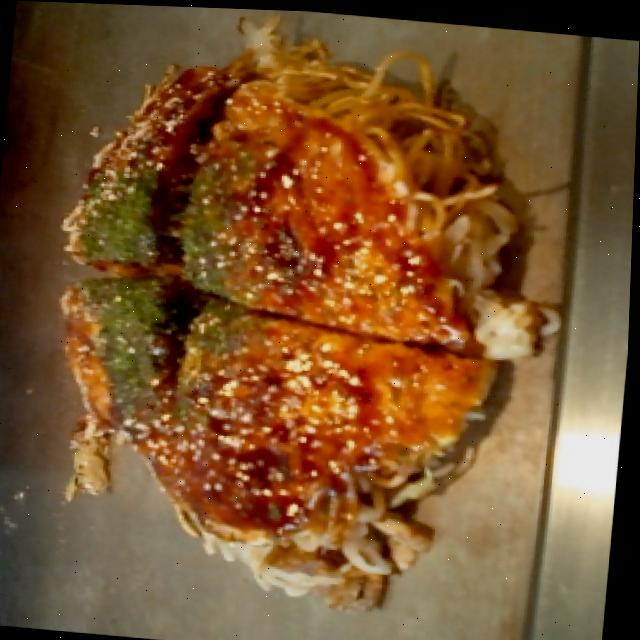蛋糕甜品: (28, 24, 536, 610)
